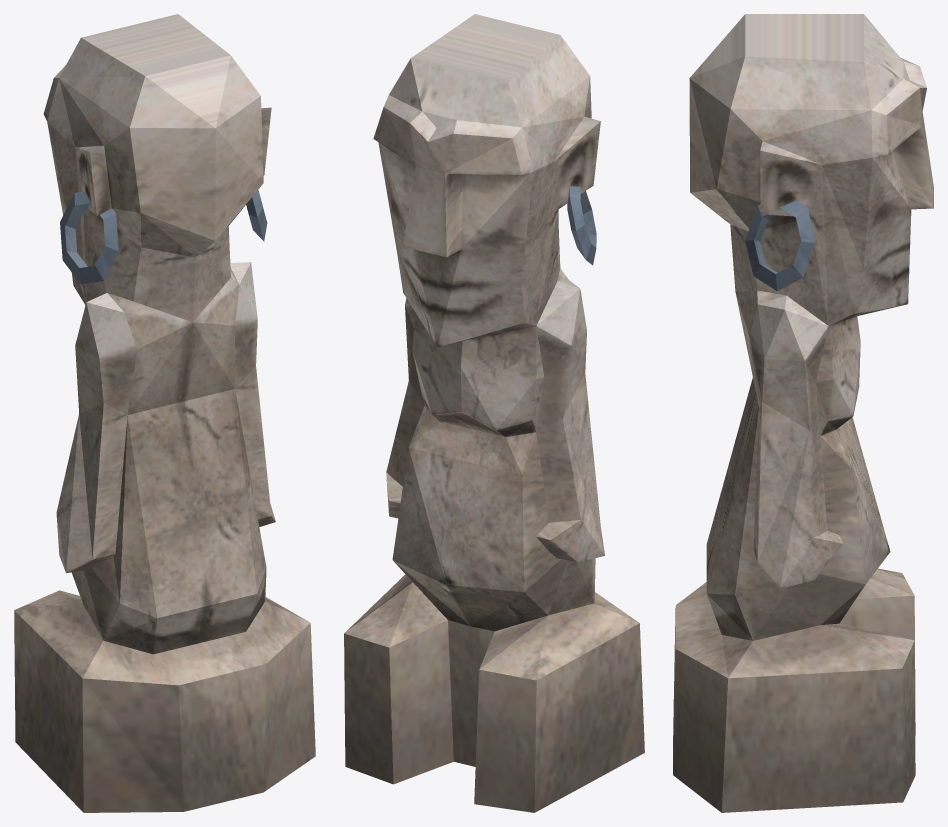
The model's file is thm_dant_totem_pole_l2.fbx.
The picture shows the model from 3 angles, left to right: view 1: azimuth 30°, elevation 25°; view 2: azimuth 150°, elevation 25°; view 3: azimuth 270°, elevation 25°; orthographic projection.
Visible parts, largest first — view 1: mesh_node; view 2: mesh_node; view 3: mesh_node.
Part boxes in pixels (bbox=[...]): mesh_node: bbox=[14, 14, 315, 812]; mesh_node: bbox=[344, 14, 644, 812]; mesh_node: bbox=[673, 14, 933, 812].
Bounding box in the file's own units: 2.33 × 6.8 × 2.23.
Materials: 1 (1 with a texture image).
